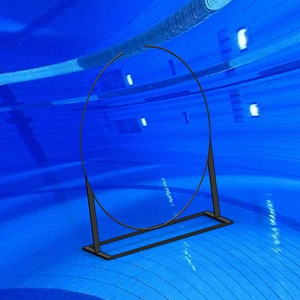circle: (79, 44, 234, 261)
